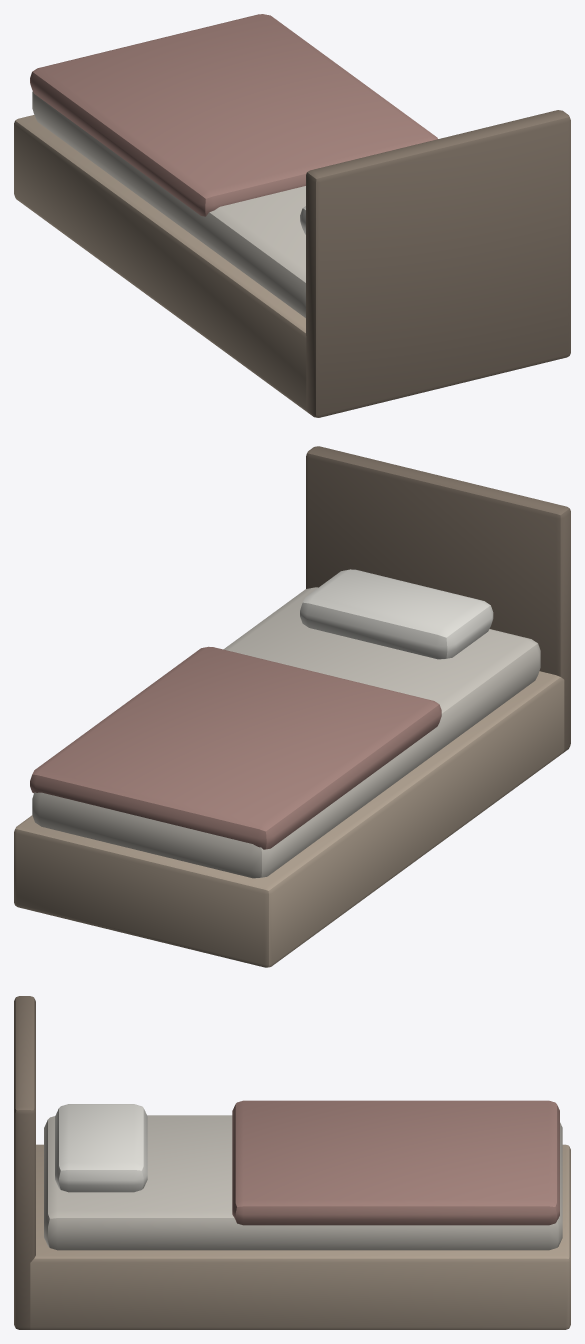
Rendered from bed.gltf.
The picture shows the model from 3 angles, top to bottom: view 1: azimuth 30°, elevation 25°; view 2: azimuth 150°, elevation 25°; view 3: azimuth 270°, elevation 25°; orthographic projection. The views are drawn at different scales.
Visible parts, largest first — view 1: Body; view 2: Body; view 3: Body.
Part boxes in pixels (box(x1,y1,x2,y2)): Body: box(14, 14, 570, 417); Body: box(14, 446, 570, 967); Body: box(14, 996, 570, 1329).
Bounding box in the file's own units: 1 × 0.9 × 2.04.
